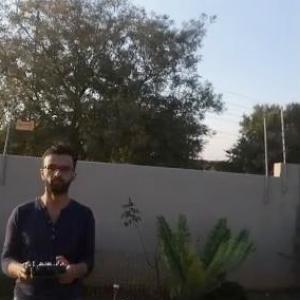follow: (0, 140, 100, 299)
